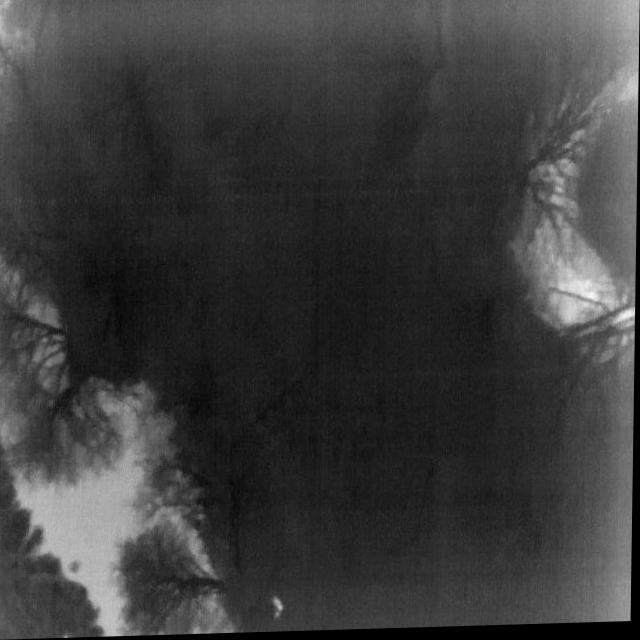deer: (273, 598, 287, 622)
